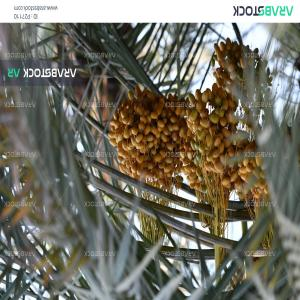palm tree: (1, 22, 299, 299)
